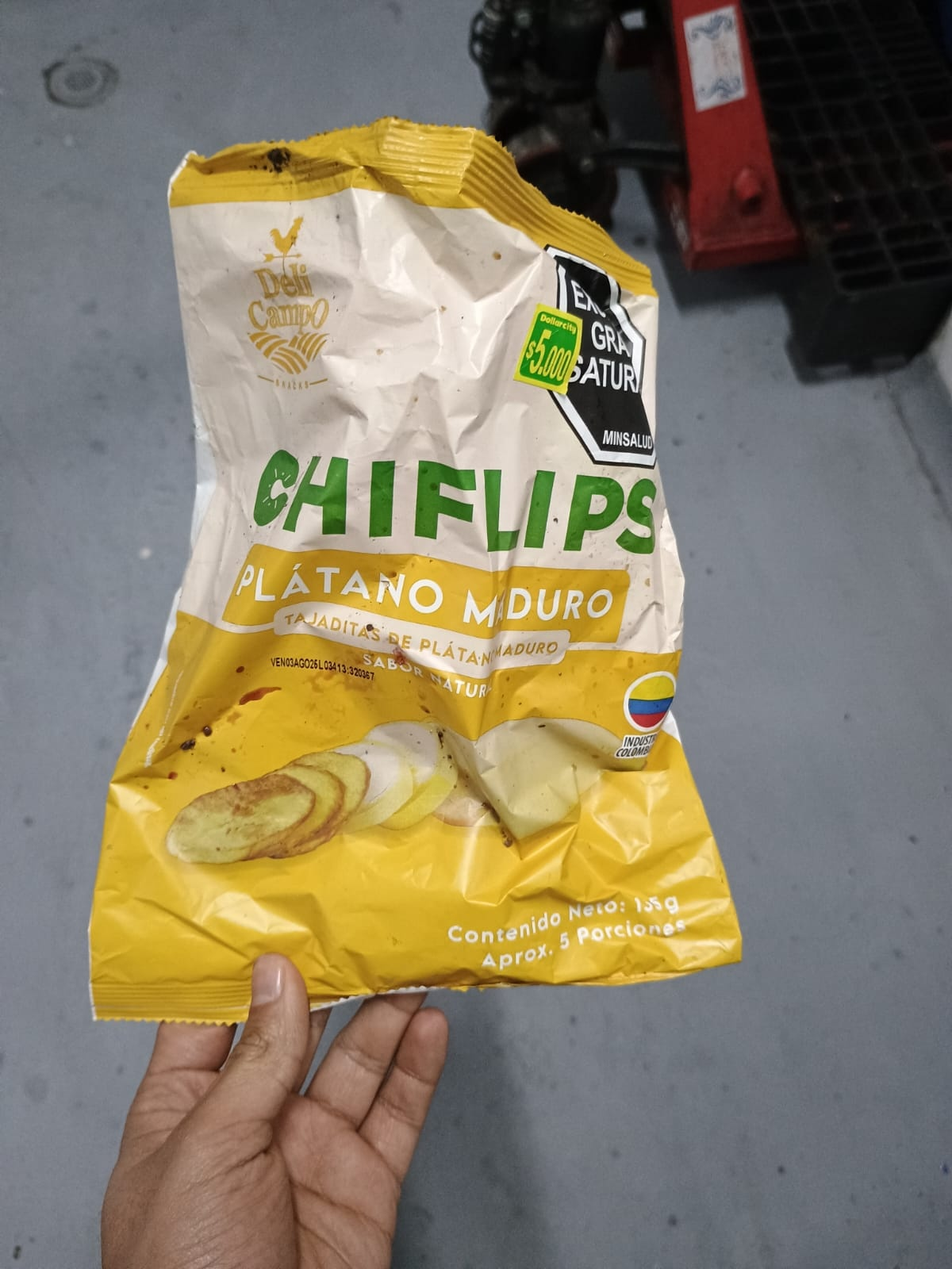Ordinario: (87, 120, 747, 1023)
